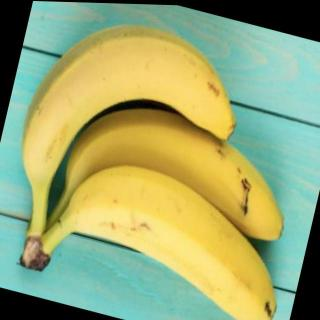banana: (10, 0, 254, 231), (49, 146, 301, 320), (58, 86, 304, 250)
